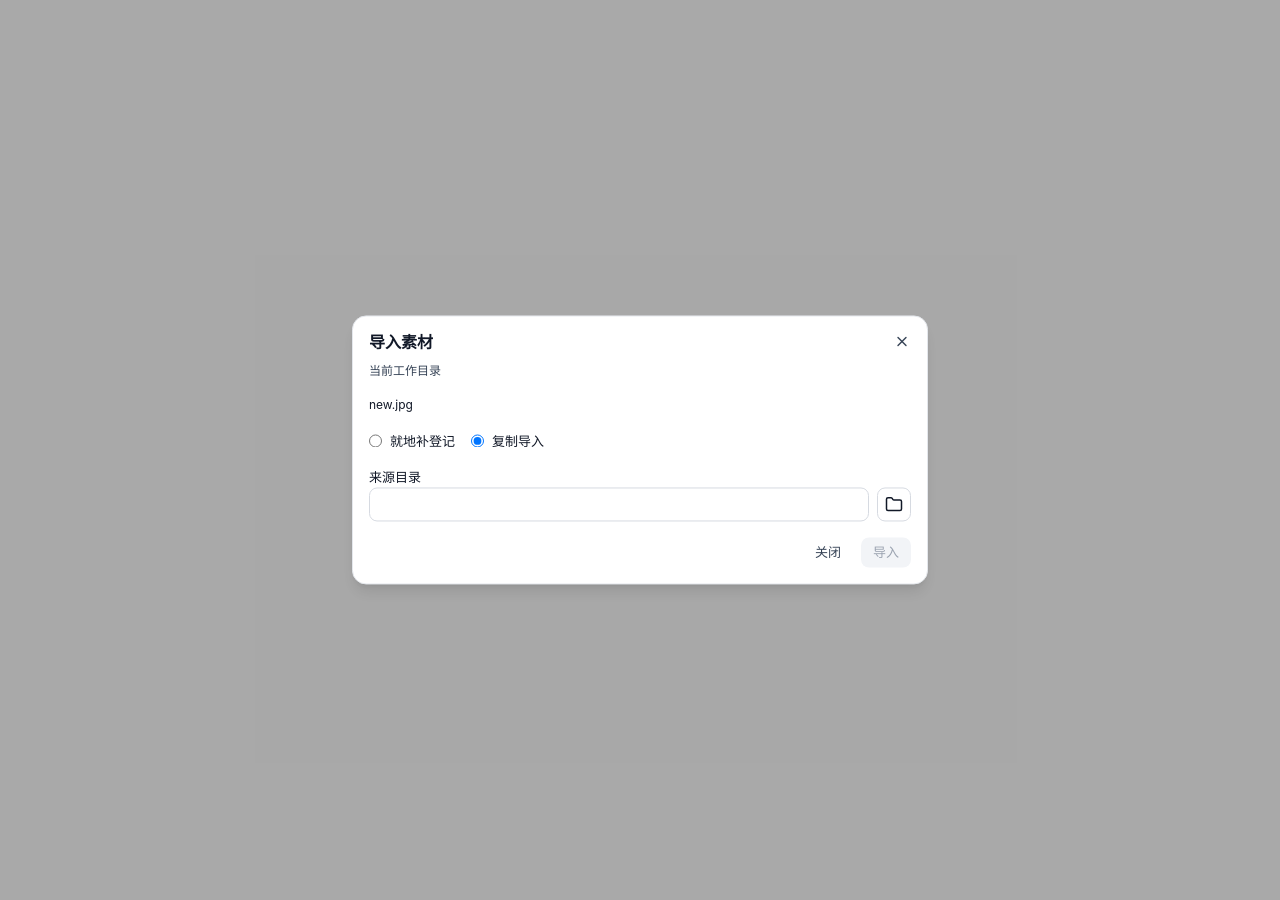
Test: 素材导入 › 从别处恢复只复制指定文件，不导入来源目录的其他文件
This screenshot has width=1280, height=900.
Type "/replacement" into the field labelled "来源目录" at (619, 504), box [369,488,869,522]
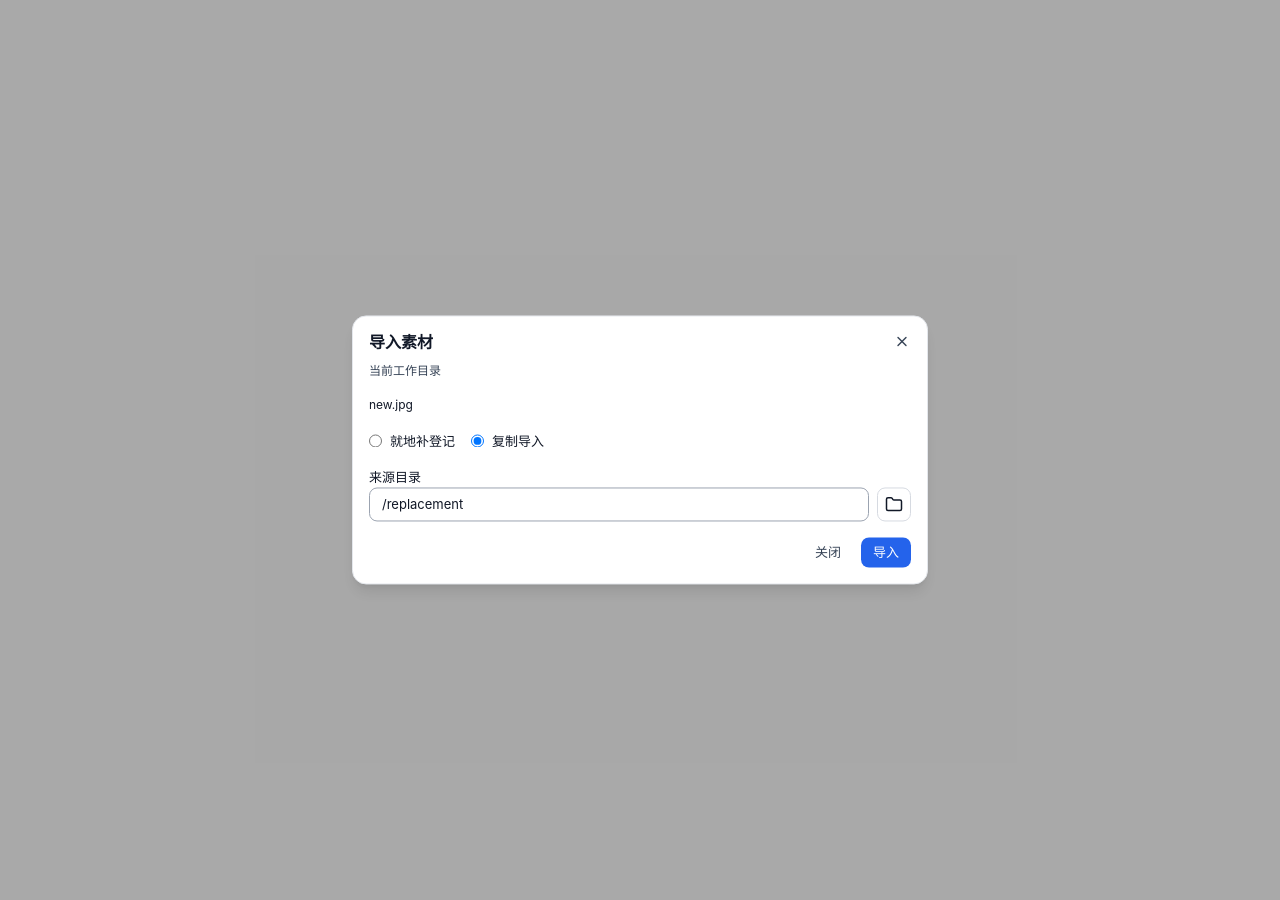
Click the button "导入" at (886, 552), box [861,538,911,568]
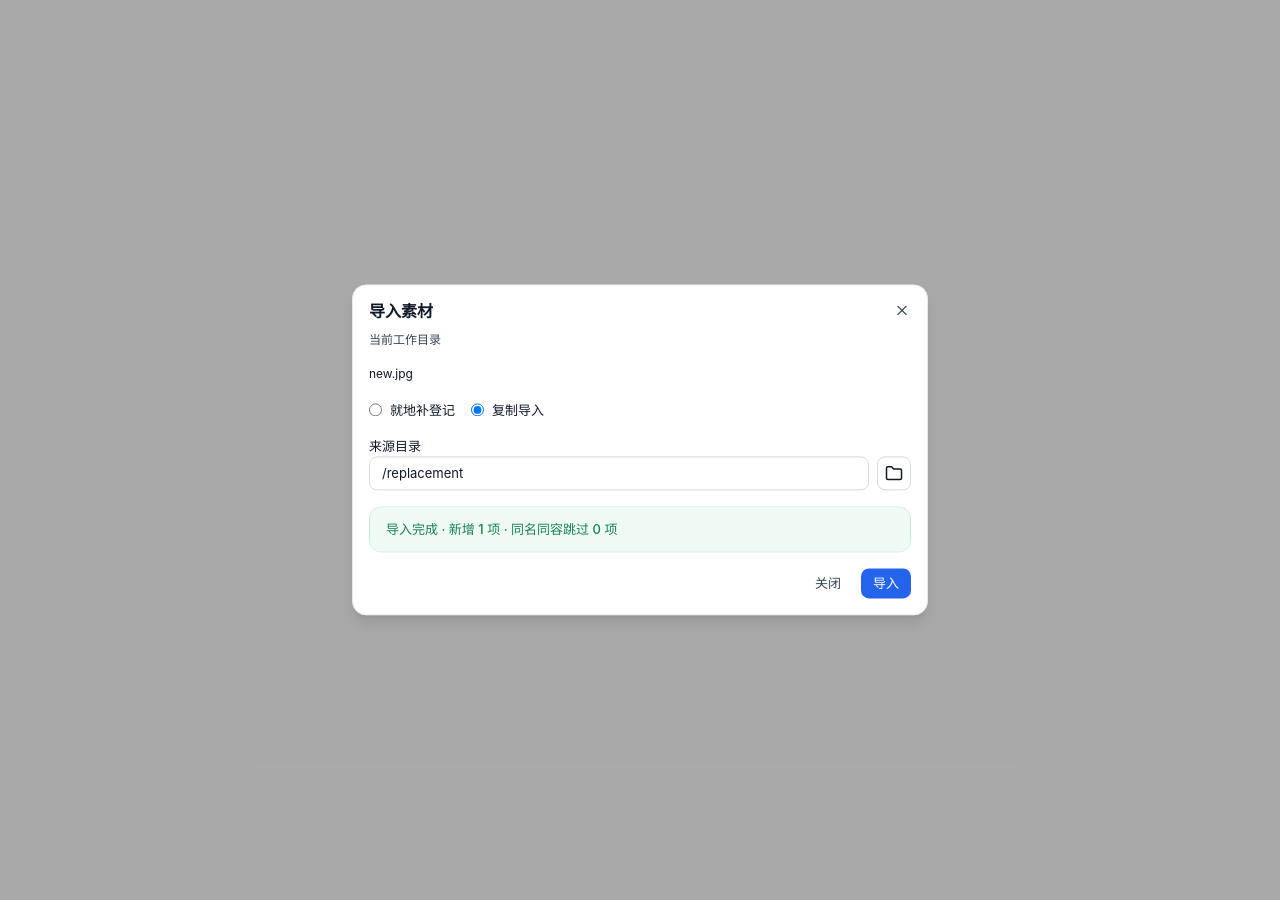
Expected: the heading "导入完成 · 新增 1 项 · 同名同容跳过 0 项" is shown, [370,508,910,552]
